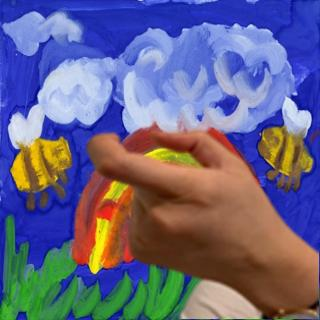HATE: (78, 122, 280, 289)
